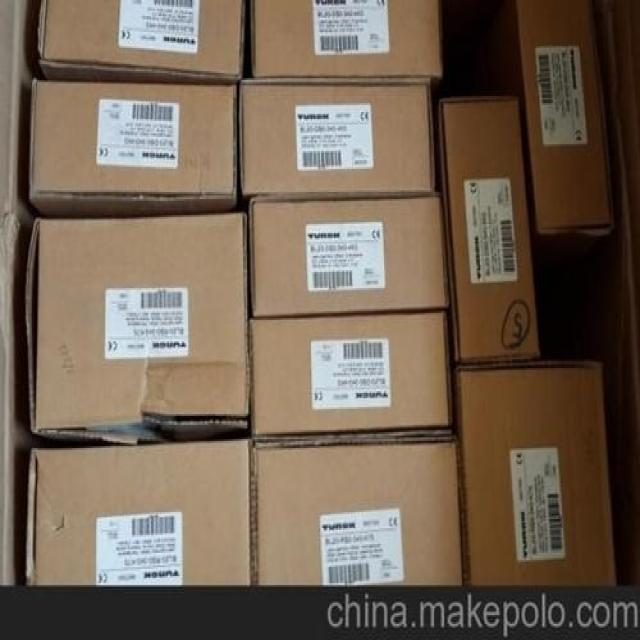box: (26, 211, 246, 448), (457, 362, 616, 588), (25, 436, 251, 587), (467, 3, 611, 236), (249, 435, 464, 585), (29, 79, 236, 221), (440, 97, 540, 364), (251, 313, 452, 435), (251, 195, 447, 316), (240, 80, 434, 198), (39, 1, 245, 82), (250, 1, 442, 79)
